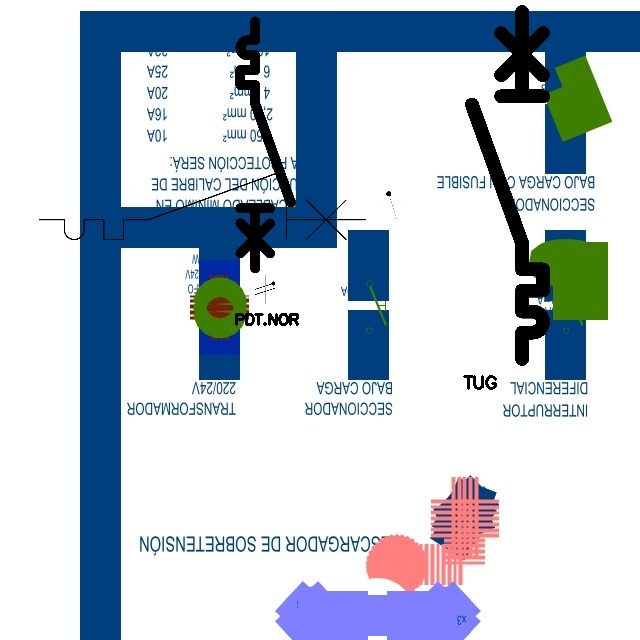interruptor_termomagnetico: (463, 3, 552, 368), (31, 164, 374, 248), (234, 15, 297, 275)
